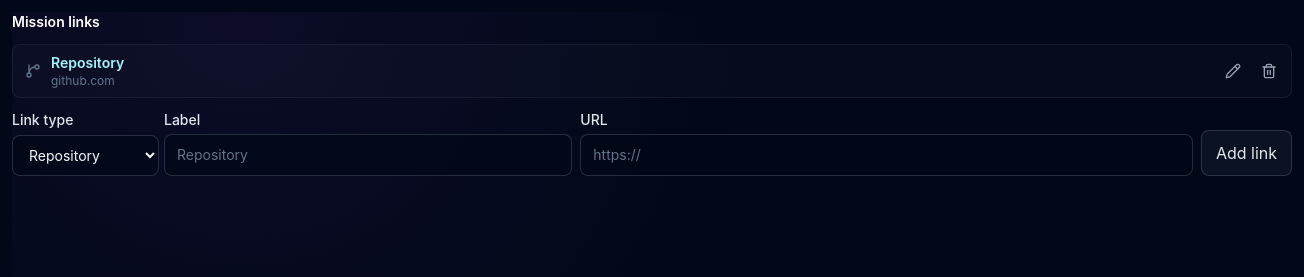
Scenario: ProjectLinksPanel › closes the editor after a successful save
Click the button named "Edit Repository".
click(1233, 71)  # box [1217, 55, 1249, 87]
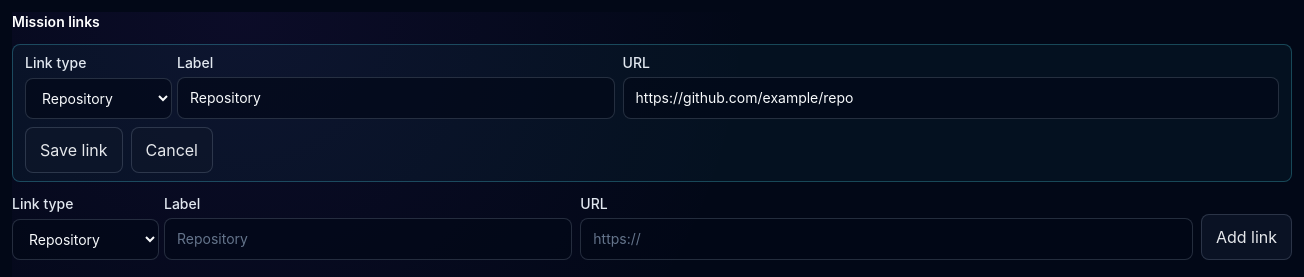
Click the button "Save link".
click(74, 150)  # box [25, 127, 122, 173]
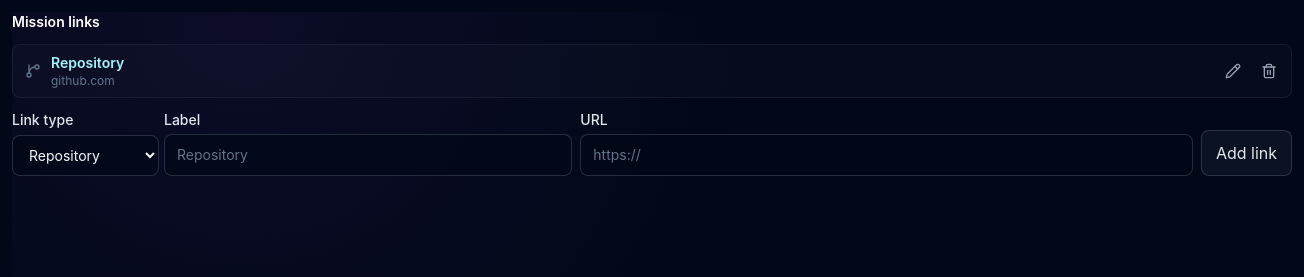
Result: the button "Save link" is gone
Result: the link "Repository" is shown at [51, 54, 124, 71]
